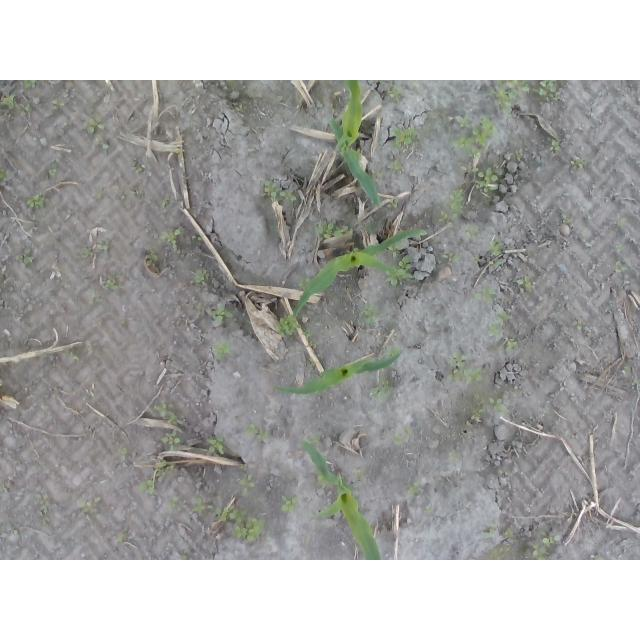Maize: (290, 226, 430, 327), (301, 440, 384, 561), (325, 81, 384, 211), (274, 347, 407, 396)
Weeds: (497, 81, 558, 120), (214, 505, 263, 543), (453, 114, 495, 158), (448, 354, 485, 386), (530, 534, 565, 560), (264, 180, 297, 205), (387, 258, 413, 285), (153, 401, 179, 423), (477, 167, 500, 191), (370, 378, 395, 399), (391, 127, 417, 147), (161, 229, 181, 254), (449, 188, 465, 217), (37, 492, 51, 524), (315, 223, 341, 240), (475, 286, 497, 306), (391, 428, 413, 448), (212, 306, 233, 326), (364, 306, 384, 327), (241, 469, 256, 497), (82, 244, 111, 258), (162, 431, 180, 453), (207, 436, 225, 456), (154, 460, 174, 478), (210, 343, 230, 360), (248, 424, 268, 441), (279, 316, 295, 337), (281, 496, 299, 513), (80, 499, 100, 514), (1, 95, 20, 110), (87, 116, 104, 132), (27, 195, 46, 209), (388, 160, 405, 175), (45, 165, 59, 183), (103, 278, 122, 291), (17, 249, 32, 265), (138, 479, 154, 493), (489, 397, 505, 411), (490, 240, 503, 257), (463, 164, 480, 177), (518, 277, 531, 292), (196, 500, 212, 512), (444, 253, 461, 263), (506, 340, 519, 353), (407, 482, 419, 496), (388, 87, 400, 101), (194, 272, 206, 285), (132, 189, 146, 199), (172, 497, 181, 512), (573, 158, 585, 169), (500, 311, 513, 321), (615, 261, 625, 273), (487, 525, 497, 537), (440, 212, 453, 221), (473, 409, 484, 419), (552, 141, 561, 152), (101, 141, 110, 152), (135, 162, 146, 171), (122, 447, 129, 461), (466, 228, 476, 237), (52, 100, 61, 110), (490, 324, 499, 333), (506, 529, 514, 538), (96, 191, 105, 198), (118, 535, 127, 542), (0, 167, 4, 177), (619, 246, 624, 254), (620, 222, 625, 226)
